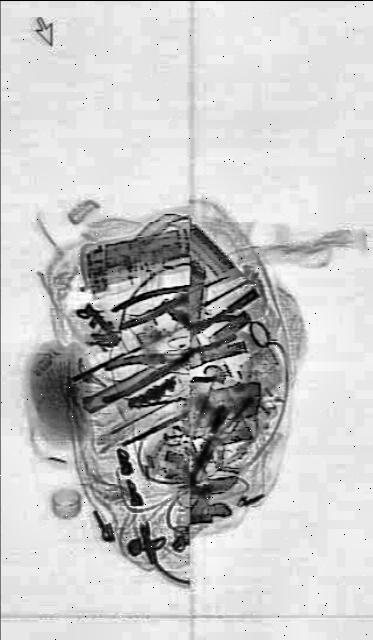Pliers: (99, 314, 239, 408), (110, 263, 232, 337)
